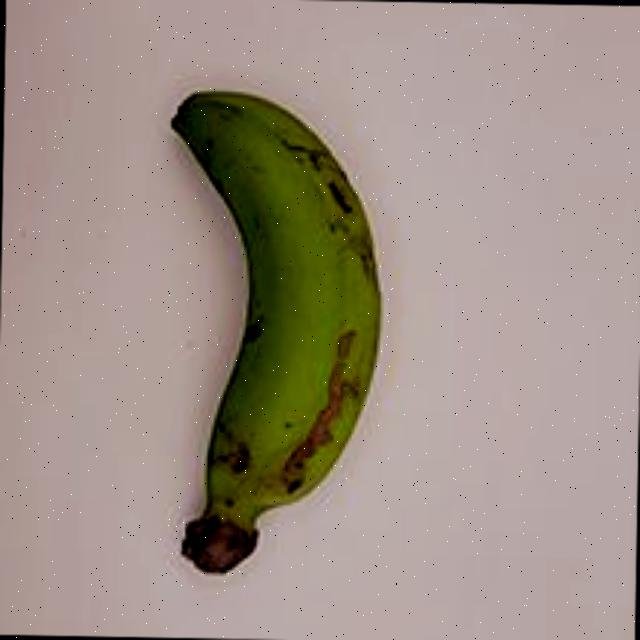Raw: (124, 60, 406, 599)
